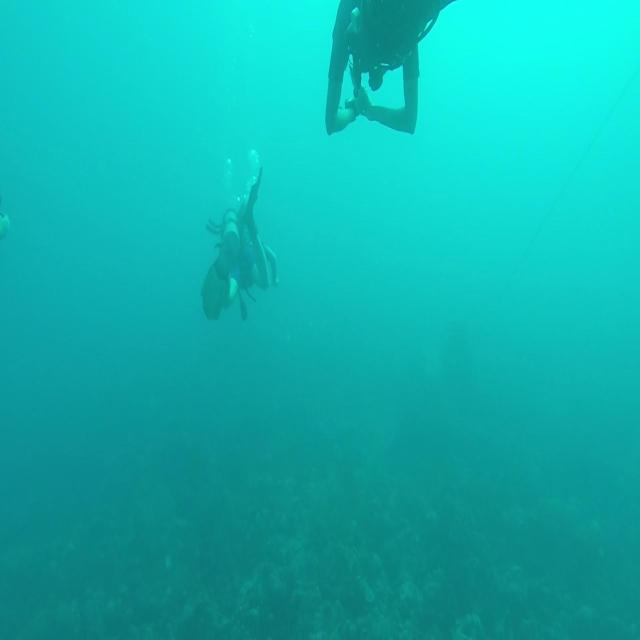human: (324, 0, 455, 136), (200, 164, 278, 322)
